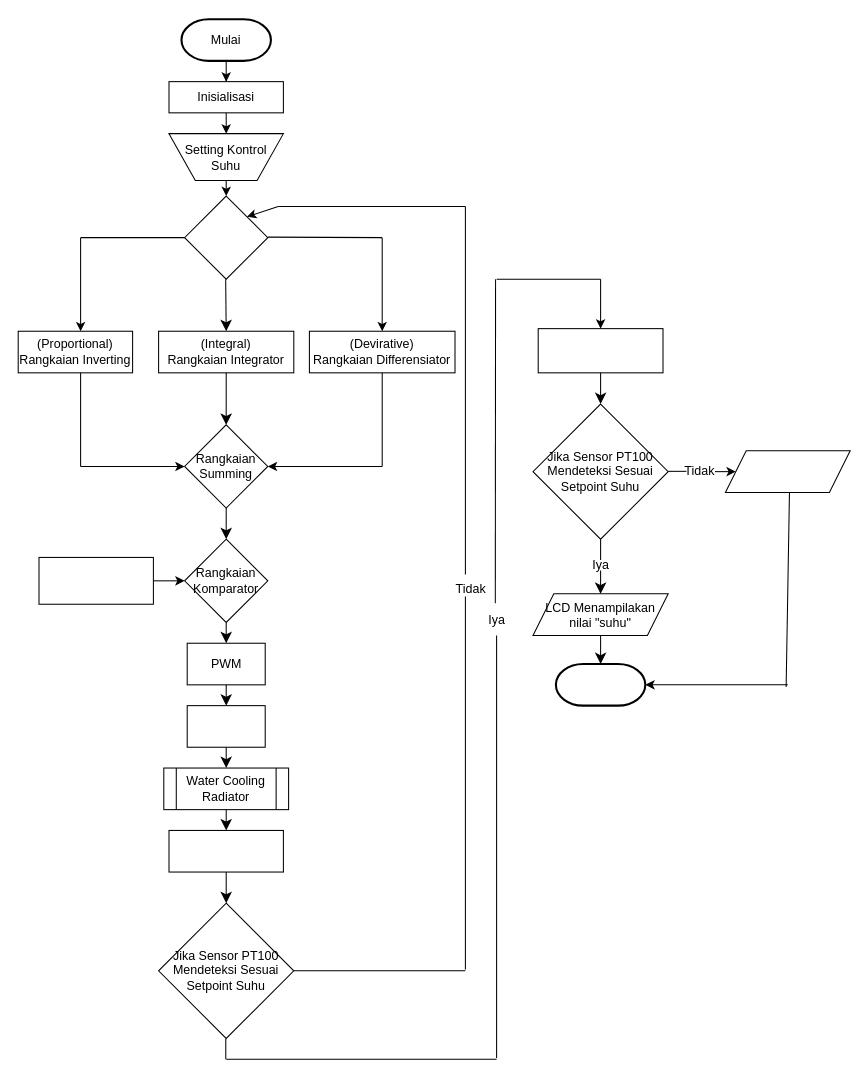
Image size: 868x1078. Some labels were removed from this diagram. Here are the shapes that lost their labels. From the top down, the centre of each, then its label:
At pixel 226 237: "Rangkaian Differensial".
At pixel 600 350: "Mengirim Data Ke Mikrokontroller".
At pixel 787 471: "Alarm Buzzer Berbunyi".
At pixel 95 580: "Rangkaian Osilator".
At pixel 600 684: "Selesai".
At pixel 225 726: "Driver".
At pixel 225 850: "Sensor PT100".
